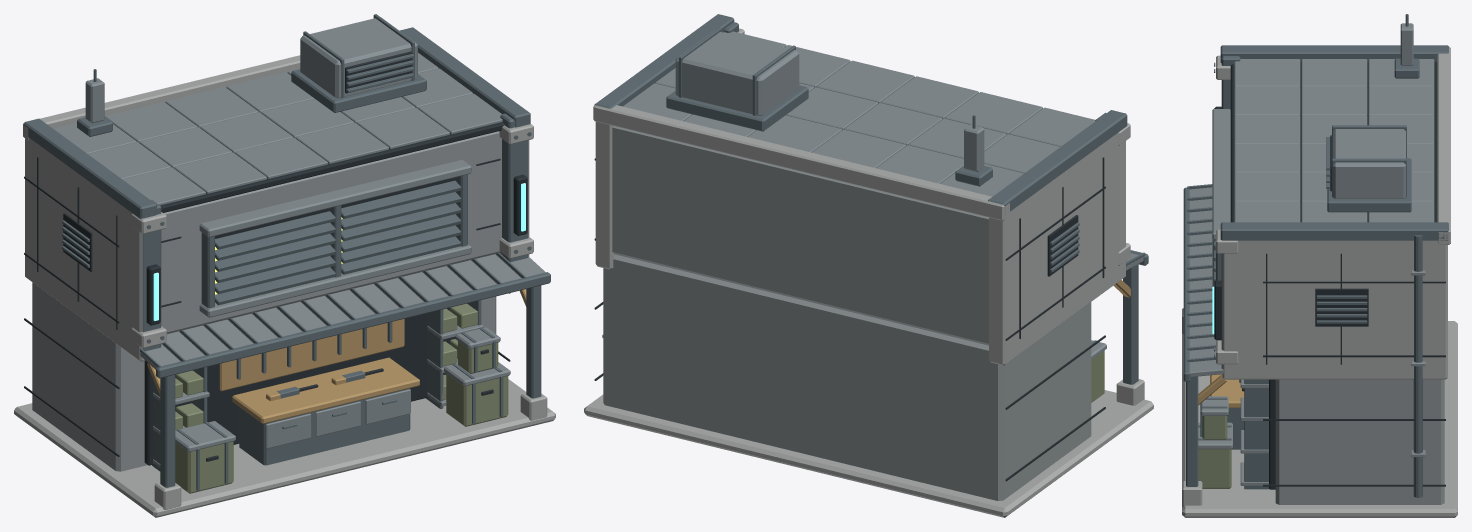
Rendered from workshop.glb.
The picture shows the model from 3 angles, left to right: view 1: azimuth 30°, elevation 25°; view 2: azimuth 150°, elevation 25°; view 3: azimuth 270°, elevation 25°; orthographic projection. The views are drawn at different scales.
Parts seen in each view (by area): view 1: workshop_roof_steel, workshop_steel, workshop_concrete_edge, workshop_concrete, workshop_recess, workshop_worn_brass, workshop_crate_olive; view 2: workshop_concrete, workshop_concrete_edge, workshop_roof_steel, workshop_steel, workshop_recess; view 3: workshop_concrete_edge, workshop_roof_steel, workshop_steel, workshop_concrete, workshop_recess, workshop_crate_olive, workshop_worn_brass.
Part boxes in pixels (box(x1,y1,x2,y2)): workshop_roof_steel: box(53, 17, 545, 467); workshop_steel: box(23, 14, 550, 490); workshop_concrete_edge: box(14, 55, 555, 517); workshop_concrete: box(32, 131, 501, 471); workshop_recess: box(24, 51, 527, 465); workshop_worn_brass: box(147, 289, 526, 423); workshop_crate_olive: box(175, 303, 508, 493); workshop_concrete: box(603, 126, 1091, 500); workshop_concrete_edge: box(584, 28, 1153, 517); workshop_roof_steel: box(602, 30, 1143, 359); workshop_steel: box(594, 14, 1148, 384); workshop_recess: box(594, 157, 1105, 481); workshop_concrete_edge: box(1182, 46, 1457, 517); workshop_roof_steel: box(1189, 23, 1434, 485); workshop_steel: box(1183, 14, 1448, 497); workshop_concrete: box(1275, 379, 1444, 504); workshop_recess: box(1214, 61, 1445, 489); workshop_crate_olive: box(1198, 416, 1231, 488); workshop_worn_brass: box(1198, 374, 1244, 407).
Size of the model in its own units: 7.2 by 6 by 4.4.
